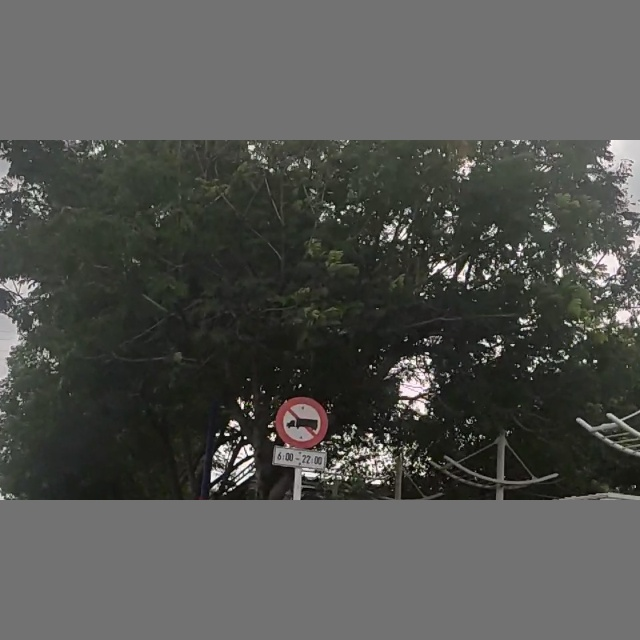B.8a: (272, 398, 326, 469)
